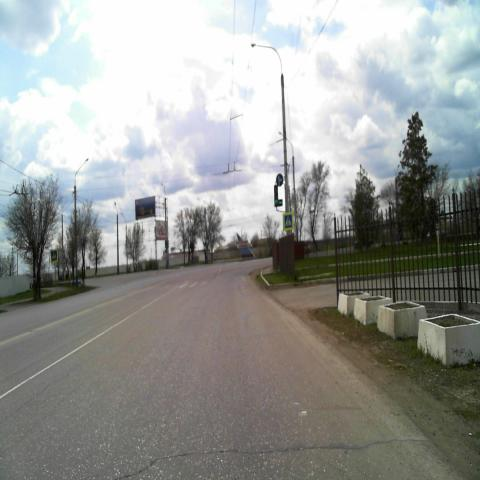4_1_4: (276, 173, 283, 186)
5_19_1: (282, 211, 294, 231), (50, 249, 58, 262)
